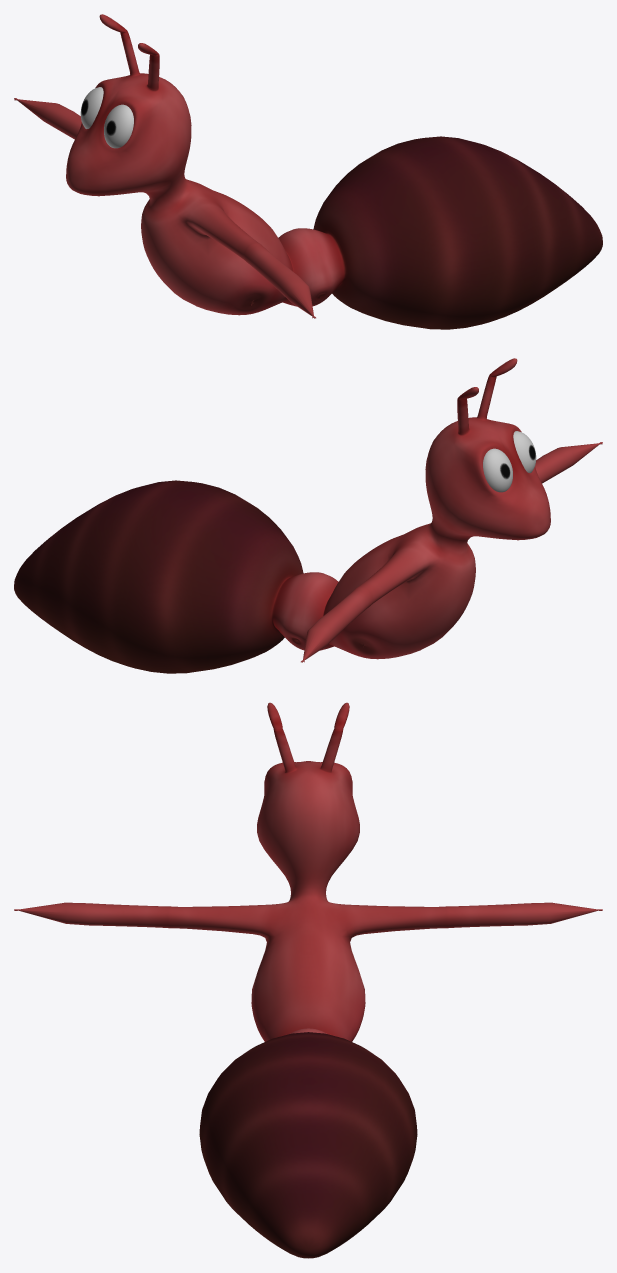
Rendered from antHandsAndLegsSmall.fbx.
3 views of the same model, one above another, from view 1: azimuth 30°, elevation 25°; view 2: azimuth 150°, elevation 25°; view 3: azimuth 270°, elevation 25° (orthographic). The views are drawn at different scales.
Visible parts, largest first — view 1: Cube; view 2: Cube; view 3: Cube.
Part boxes in pixels (left/top/right/bottom): Cube: left=14, top=14, right=602, bottom=329; Cube: left=14, top=358, right=602, bottom=673; Cube: left=14, top=702, right=602, bottom=1258.
Bounding box in the file's own units: 571 × 374 × 560.
